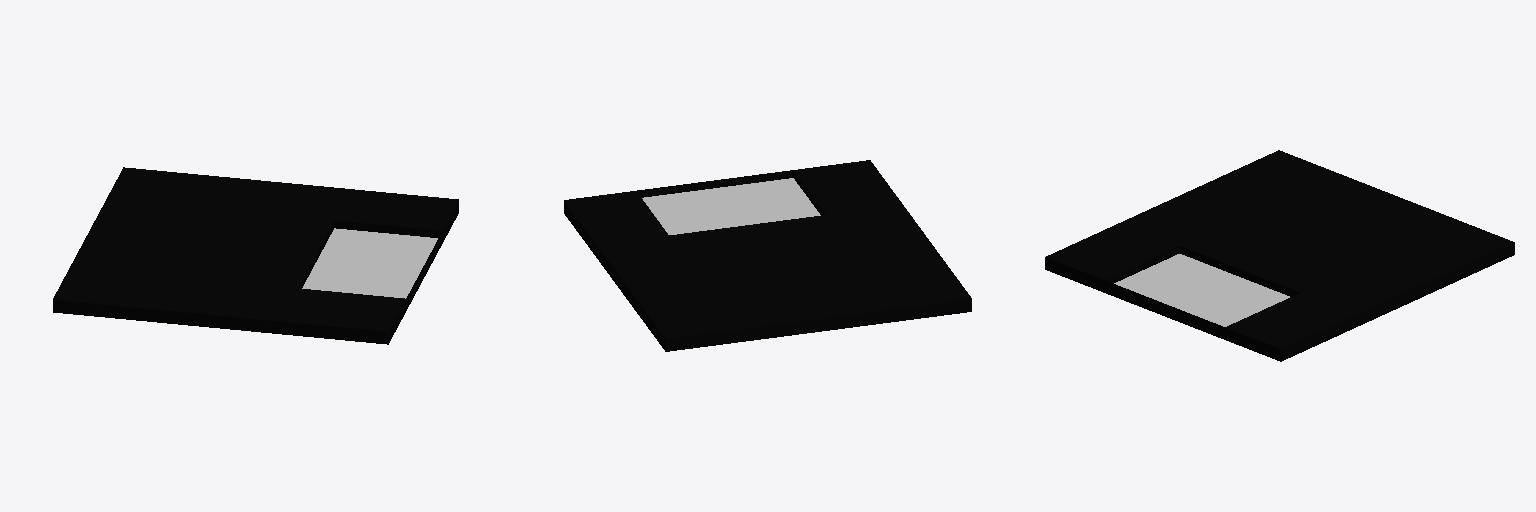
The model's file is Floppy.obj.
The picture shows the model from 3 angles: view 1: azimuth 30°, elevation 25°; view 2: azimuth 150°, elevation 25°; view 3: azimuth 270°, elevation 25°; orthographic projection.
Parts seen in each view (by area): view 1: Plane.001_Plane.004; view 2: Plane.001_Plane.004; view 3: Plane.001_Plane.004.
Part boxes in pixels (x1,y1,x2,y2): Plane.001_Plane.004: (53, 167, 458, 344); Plane.001_Plane.004: (564, 160, 971, 351); Plane.001_Plane.004: (1045, 150, 1514, 361).
Bounding box in the file's own units: 0.4104 × 0.0124 × 0.4093.